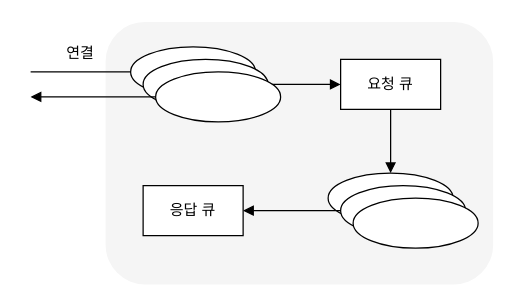
Image size: 515x305. Some labels were removed from this diagram. Each missing label, with the centre of its shape:
I/O 스레드: the point at 415,222
네트워크 스레드: the point at 217,96
